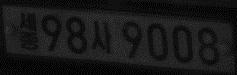0: (145, 21, 169, 61), (171, 23, 194, 64)
8: (196, 26, 220, 66), (65, 15, 88, 54)
9: (121, 20, 144, 58), (40, 14, 63, 51)
사: (90, 19, 113, 54)
세종_V: (18, 11, 39, 51)
